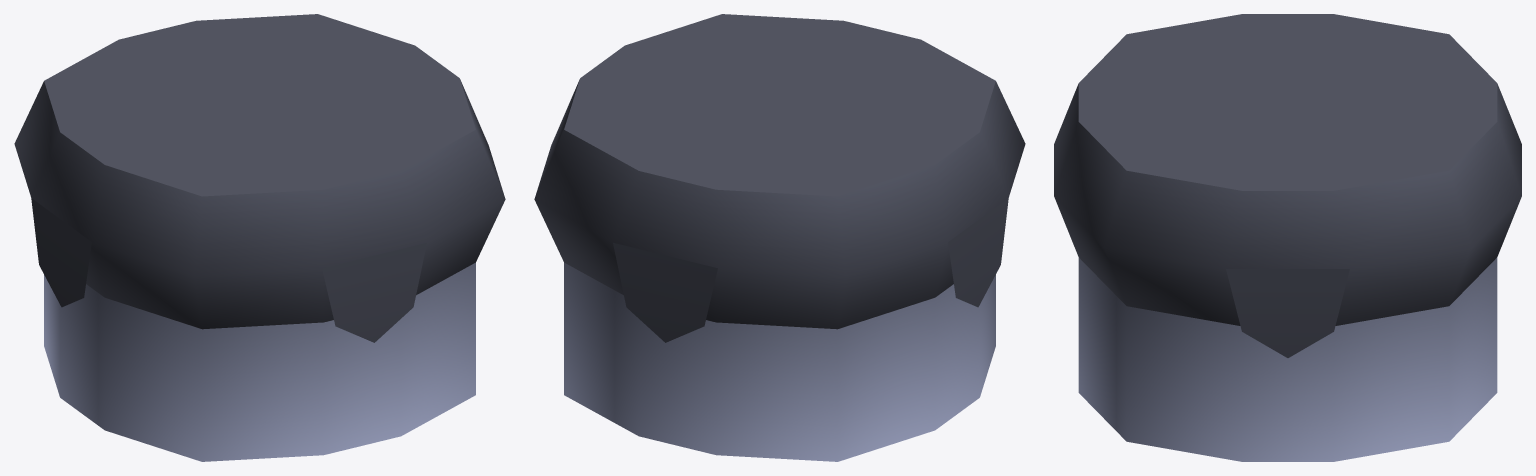
The model's file is block-snow-overhang-low-narrow.glb.
3 views of the same model, side by side, from view 1: azimuth 30°, elevation 25°; view 2: azimuth 150°, elevation 25°; view 3: azimuth 270°, elevation 25° (orthographic). The views are drawn at different scales.
Parts seen in each view (by area): view 1: block-snow-overhang-low-narrow; view 2: block-snow-overhang-low-narrow; view 3: block-snow-overhang-low-narrow.
Part boxes in pixels (x1=…): block-snow-overhang-low-narrow: x1=14, y1=14, x2=505, y2=461; block-snow-overhang-low-narrow: x1=534, y1=14, x2=1025, y2=461; block-snow-overhang-low-narrow: x1=1054, y1=14, x2=1521, y2=461.
Size of the model in its own units: 0.7821 by 0.5 by 0.7821.
